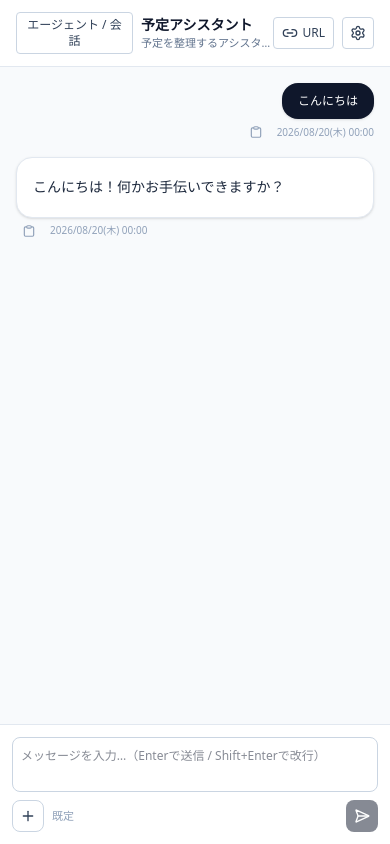
AgentsPage › opens the mobile sidebar drawer from the chat header
Check: the text "こんにちは！何かお手伝いできますか？" is shown, box [33,177,285,196]
Click the button with aria-label "エージェントと会話を選択" at {"x": 74, "y": 33}, box [16,12,133,54]
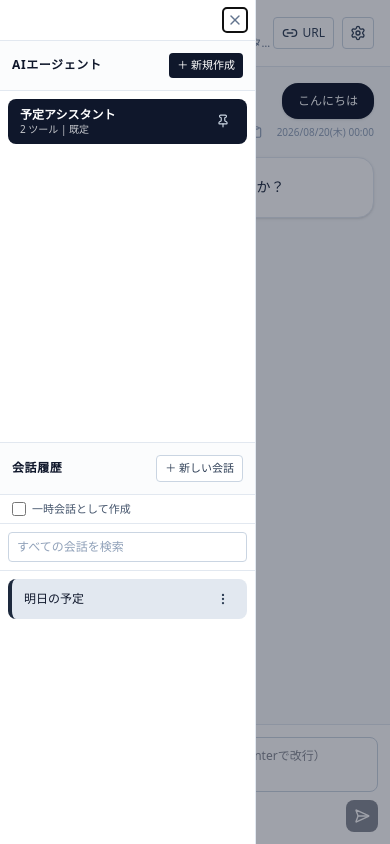
Check: the dialog named "サイドバーを閉じる" is shown
Check: the heading "AIエージェント" is shown, box [12,57,102,73]
Check: the heading "会話履歴" is shown, box [12,460,62,476]
